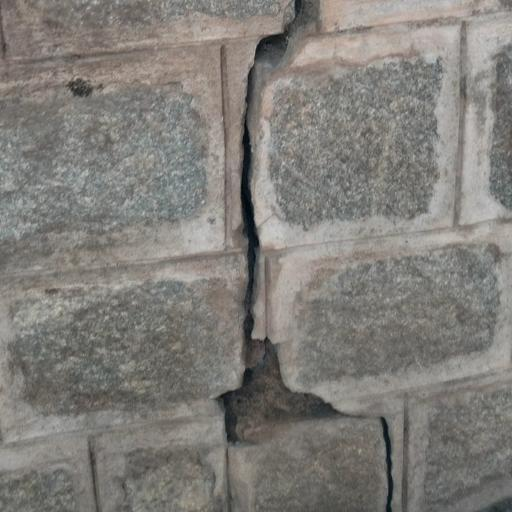major_crack: (214, 2, 418, 510)
